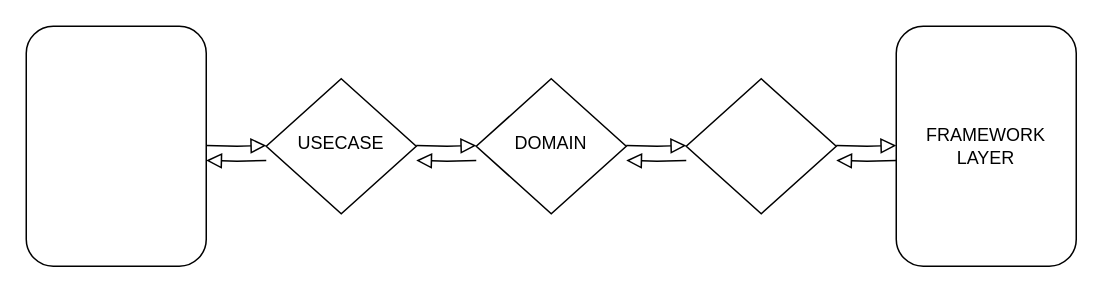
Some shapes in this 1103 by 293 pixel diagram are drawn without their labels. The shapes that lost their labels are listed below. From the top down, each one's centre as x and y in pixels, then its label:
At point (115, 145): "PRESENTATION LAYER".
At point (760, 145): "DATA".
